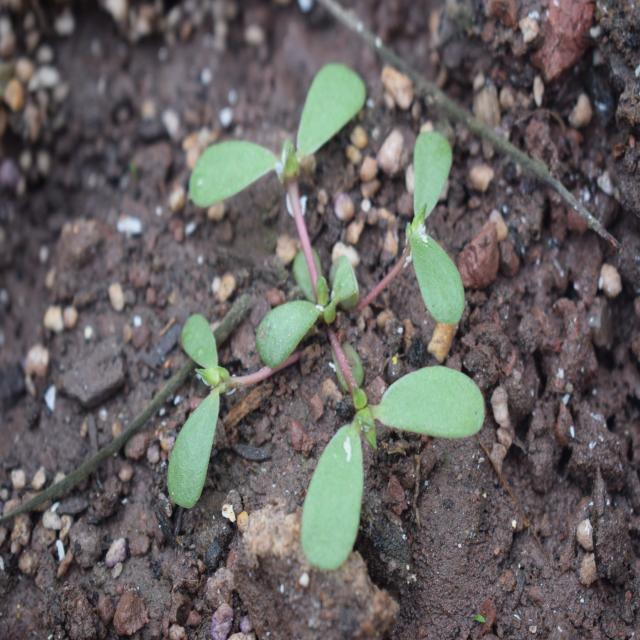purslane: (154, 79, 504, 573)
